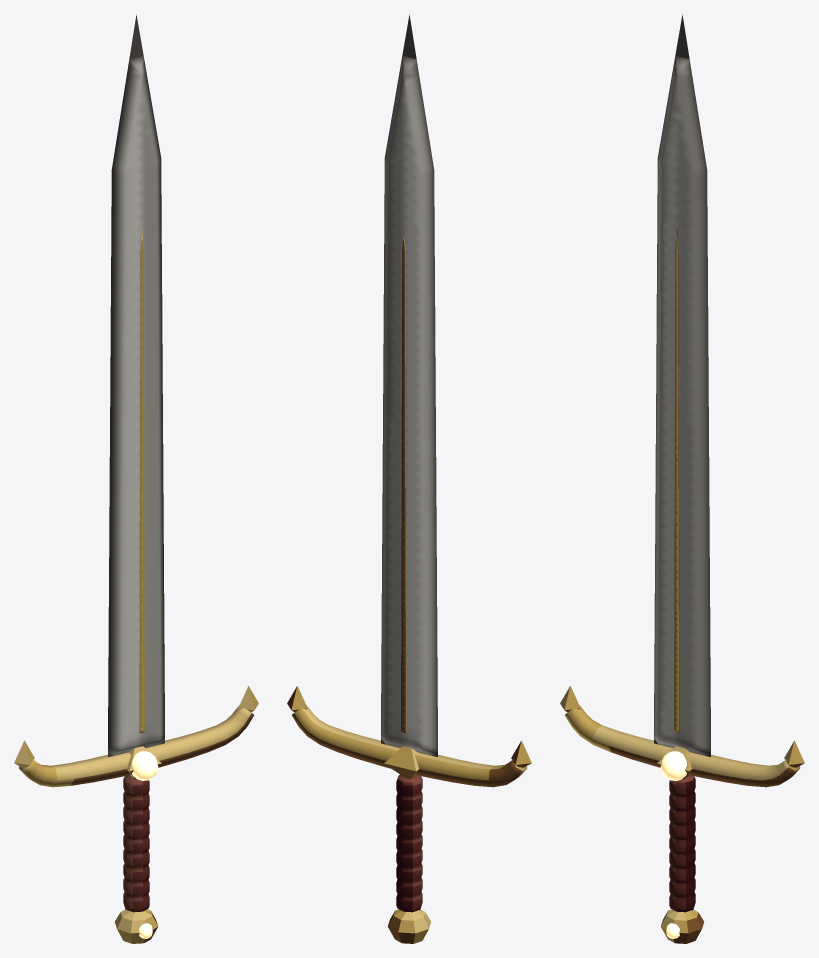
The model's file is w_guardian_greatsword.glb.
The picture shows the model from 3 angles, left to right: view 1: azimuth 30°, elevation 25°; view 2: azimuth 150°, elevation 25°; view 3: azimuth 330°, elevation 25°; orthographic projection.
Visible parts, largest first — view 1: Weapon; view 2: Weapon; view 3: Weapon.
Part boxes in pixels (<box>): Weapon: <box>14,14,258,943</box>; Weapon: <box>287,14,531,943</box>; Weapon: <box>560,14,804,943</box>.
Bounding box in the file's own units: 0.376 × 1.36 × 0.07.
